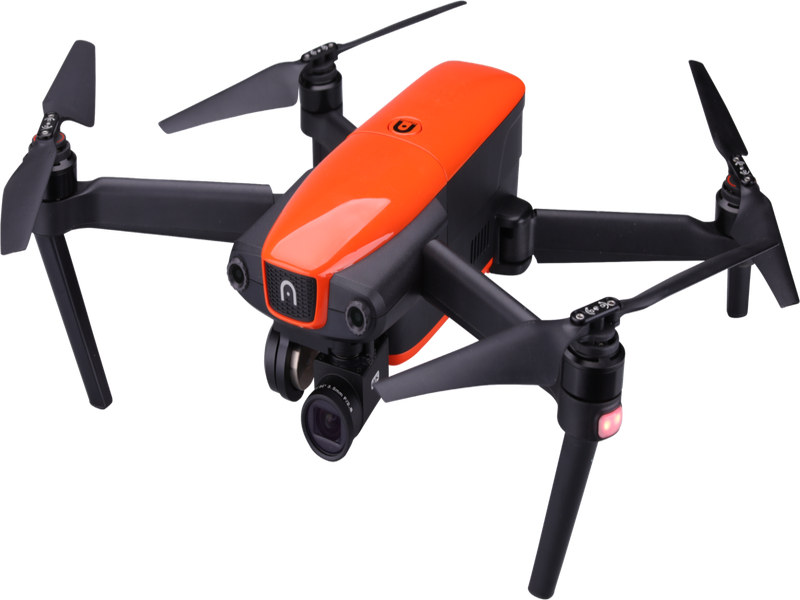enemy: (32, 39, 787, 570)
